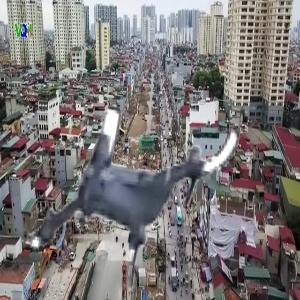drone: (33, 71, 245, 283)
